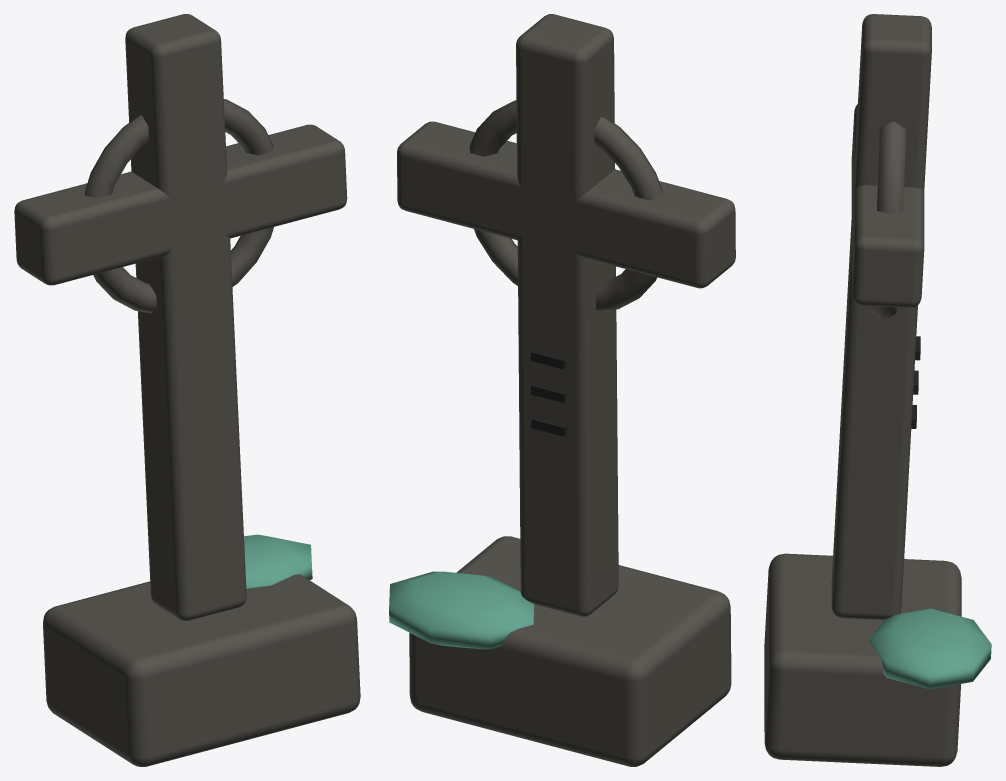
File: TOMBSTONE_CROSS.glb
The picture shows the model from 3 angles, left to right: view 1: azimuth 30°, elevation 25°; view 2: azimuth 150°, elevation 25°; view 3: azimuth 270°, elevation 25°; orthographic projection. The views are drawn at different scales.
Parts seen in each view (by area): view 1: concreteProp_0, copper_2; view 2: concreteProp_0, copper_2, tread_1; view 3: concreteProp_0, copper_2, tread_1.
Boxes of the visible parts, x1,y1,x2,y2 form: concreteProp_0: (14, 14, 360, 766); copper_2: (244, 534, 312, 588); concreteProp_0: (397, 14, 735, 766); copper_2: (389, 571, 534, 649); tread_1: (530, 350, 566, 436); concreteProp_0: (764, 14, 961, 766); copper_2: (869, 608, 991, 689); tread_1: (911, 336, 920, 428).
Bounding box in the file's own units: 0.6619 × 1.41 × 0.4238.
